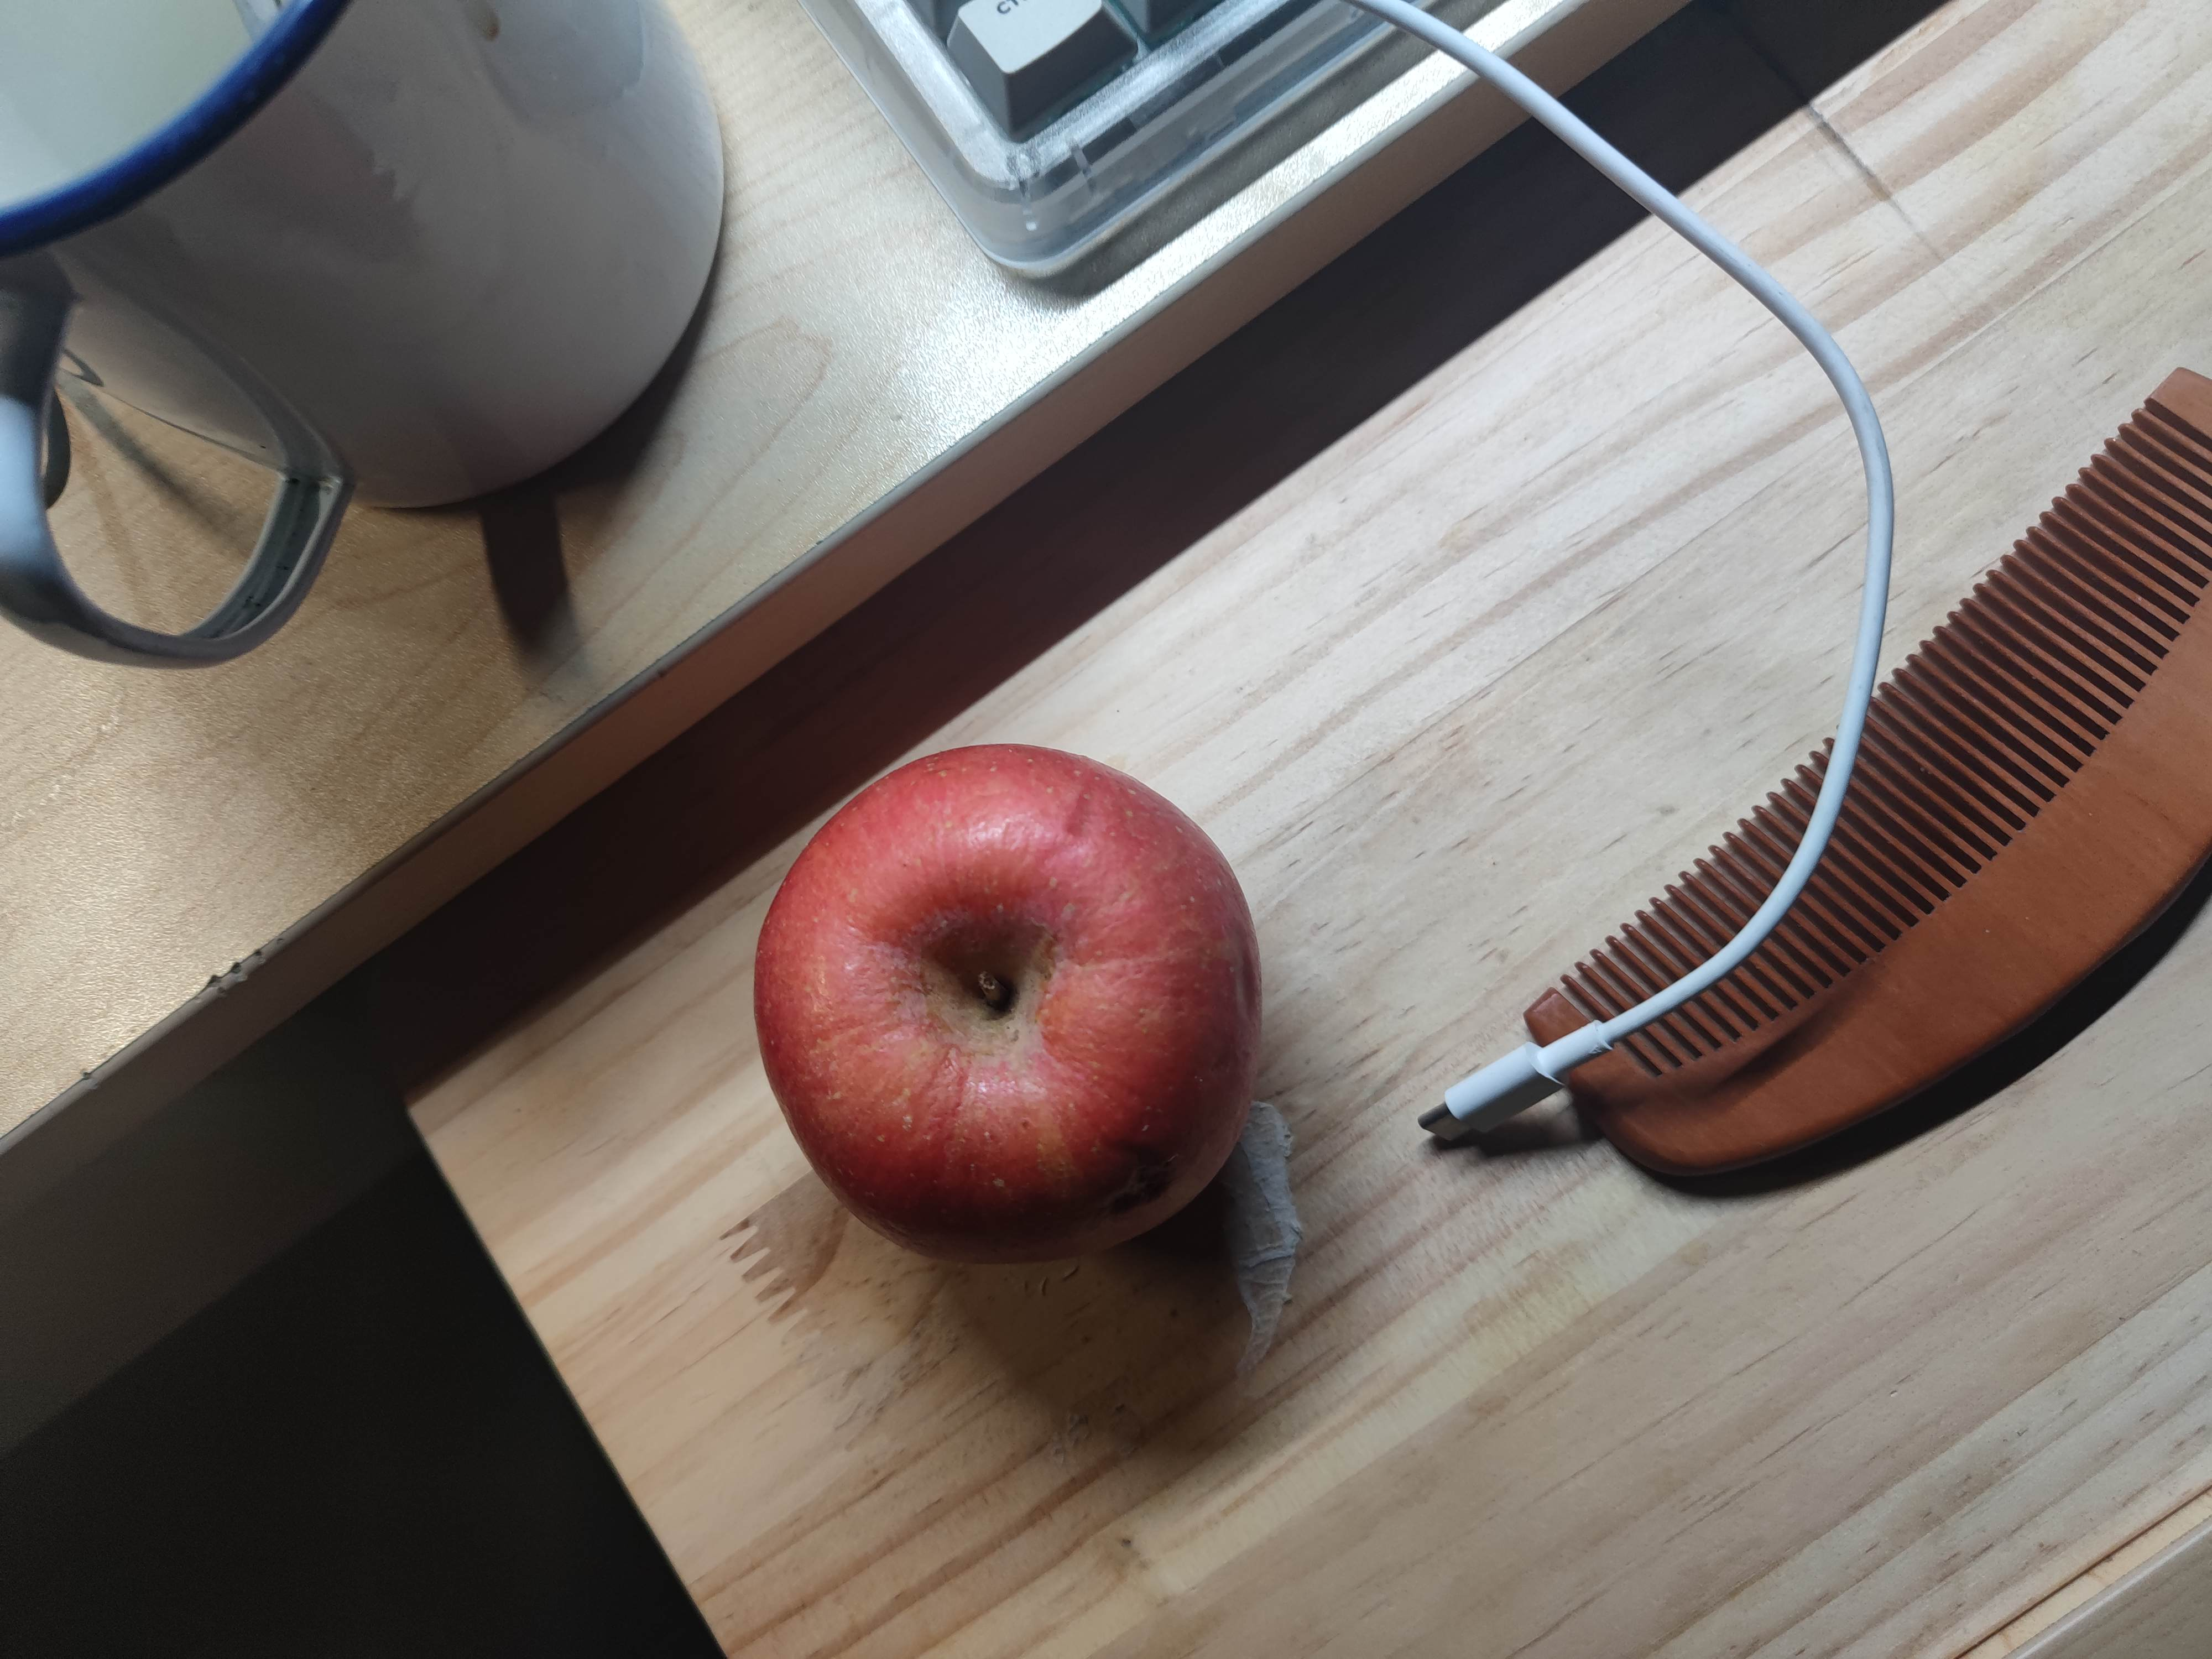apple: (751, 739, 1270, 1255)
